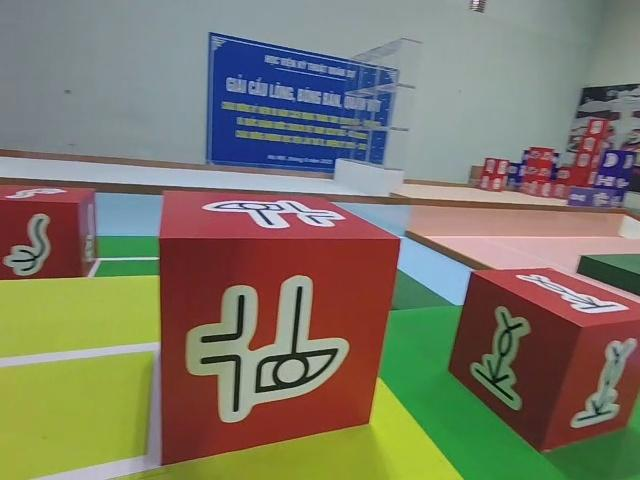R2 Real: (156, 185, 405, 471), (443, 265, 640, 456), (0, 181, 102, 281)
